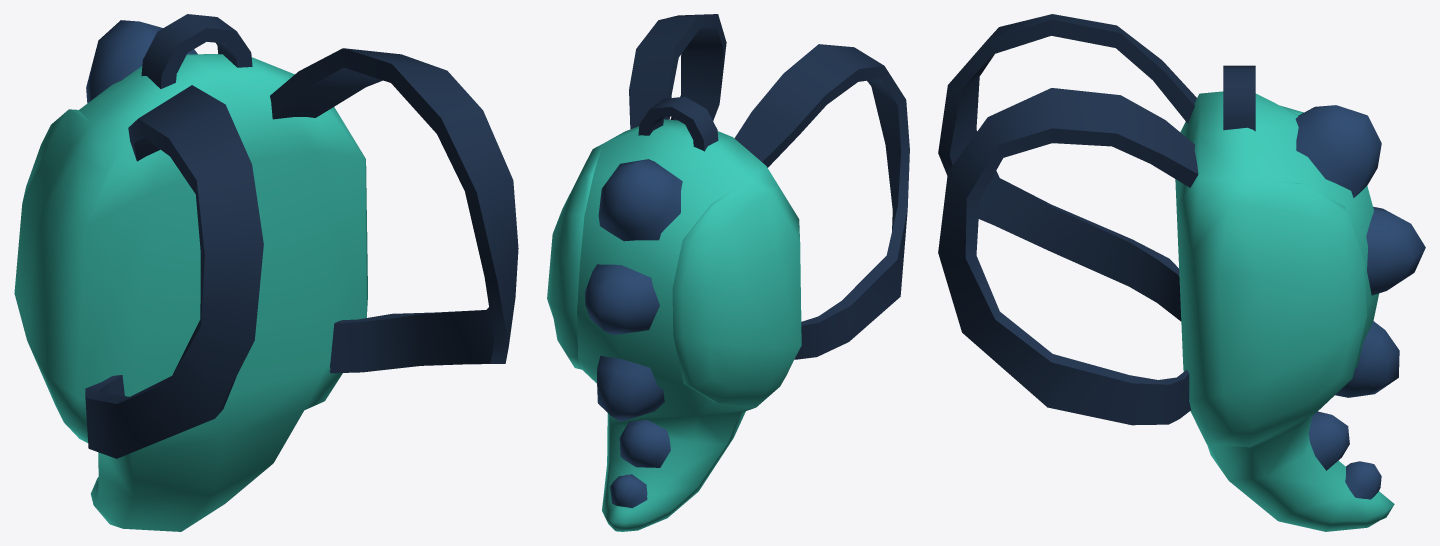
File: Bag_11.fbx
The picture shows the model from 3 angles, left to right: view 1: azimuth 30°, elevation 25°; view 2: azimuth 150°, elevation 25°; view 3: azimuth 270°, elevation 25°; orthographic projection. The views are drawn at different scales.
Visible parts, largest first — view 1: Bag_11; view 2: Bag_11; view 3: Bag_11.
Boxes of the visible parts, bbox=[...] form: Bag_11: bbox=[14, 14, 518, 531]; Bag_11: bbox=[547, 14, 909, 531]; Bag_11: bbox=[938, 14, 1425, 531].
Bounding box in the file's own units: 45.41 × 62.42 × 58.59.
